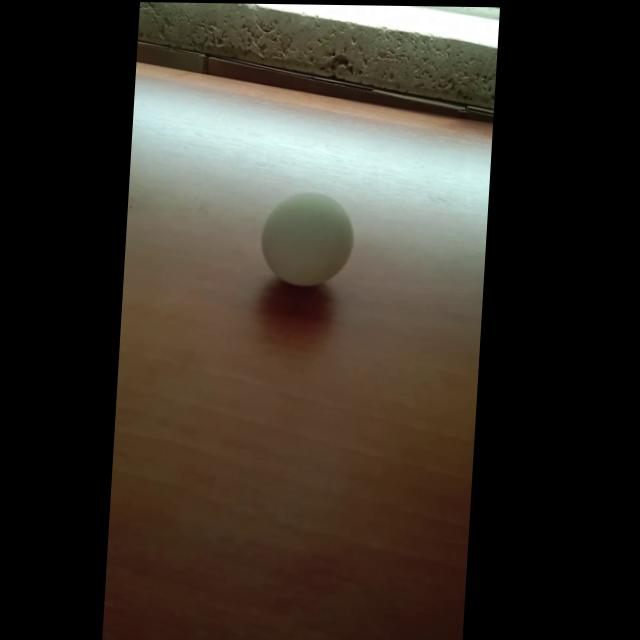white ball: (257, 190, 357, 287)
